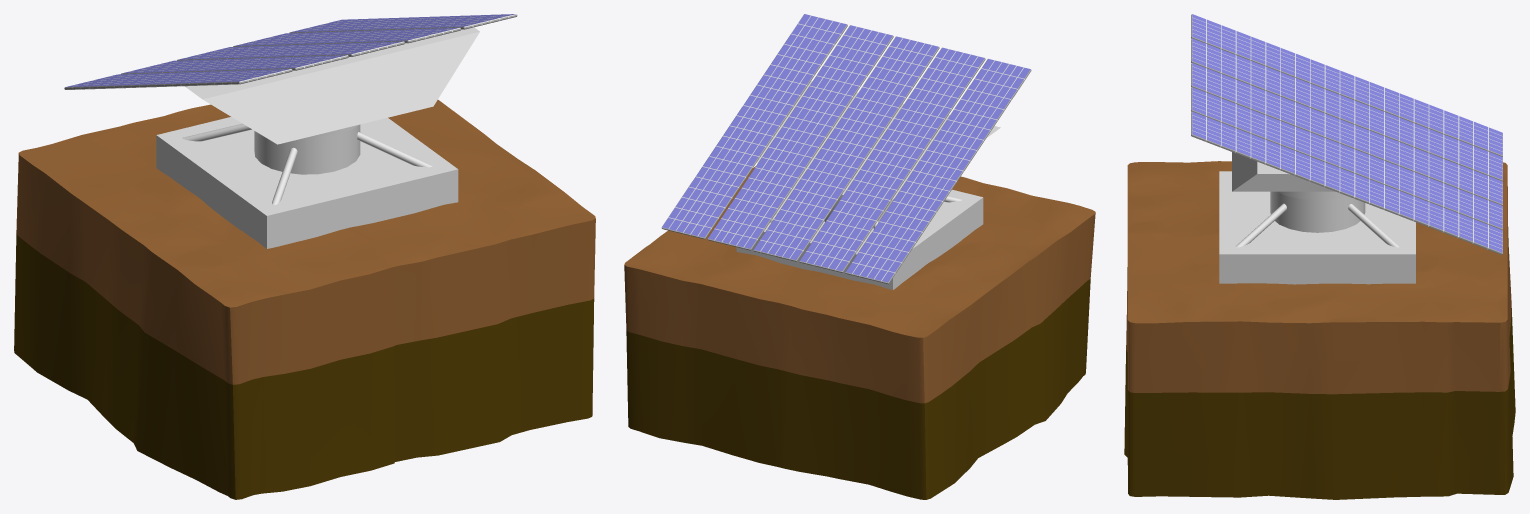
File: solar_cell2.fbx
3 renders of one model, left to right at view 1: azimuth 30°, elevation 25°; view 2: azimuth 150°, elevation 25°; view 3: azimuth 270°, elevation 25°, orthographic. The views are drawn at different scales.
Visible parts, largest first — view 1: polySurface10, polySurface8, polySurface5, polySurface4, pCube20, pCube18, pCube19, pCube9, pCube17, polySurface7; view 2: polySurface10, pCube19, pCube9, pCube17, pCube18, pCube20, polySurface8, polySurface5; view 3: polySurface10, polySurface8, pCube9, pCube19, pCube20, pCube18, pCube17, polySurface4, polySurface5, polySurface7, polySurface3.
Part boxes in pixels (x1,y1,x2,y2): polySurface10: [14, 100, 595, 499]; polySurface8: [156, 117, 458, 248]; polySurface5: [185, 27, 479, 144]; polySurface4: [254, 124, 360, 174]; pCube20: [64, 69, 292, 89]; pCube18: [177, 41, 404, 60]; pCube19: [121, 55, 348, 74]; pCube9: [289, 14, 517, 33]; pCube17: [233, 27, 461, 46]; polySurface7: [357, 132, 432, 167]; polySurface10: [624, 166, 1095, 499]; pCube19: [799, 47, 985, 272]; pCube9: [661, 14, 847, 239]; pCube17: [707, 25, 893, 250]; pCube18: [753, 36, 939, 261]; pCube20: [845, 58, 1031, 284]; polySurface8: [736, 183, 983, 289]; polySurface5: [757, 81, 1000, 199]; polySurface10: [1124, 161, 1515, 499]; polySurface8: [1219, 171, 1415, 284]; pCube9: [1191, 111, 1502, 254]; pCube19: [1191, 38, 1502, 181]; pCube20: [1191, 14, 1502, 156]; pCube18: [1191, 63, 1502, 205]; pCube17: [1191, 87, 1502, 229]; polySurface4: [1270, 191, 1365, 232]; polySurface5: [1232, 152, 1334, 191]; polySurface7: [1235, 203, 1286, 247]; polySurface3: [1348, 204, 1399, 247].
Size of the model in its own units: 20.78 by 19.75 by 20.34.
